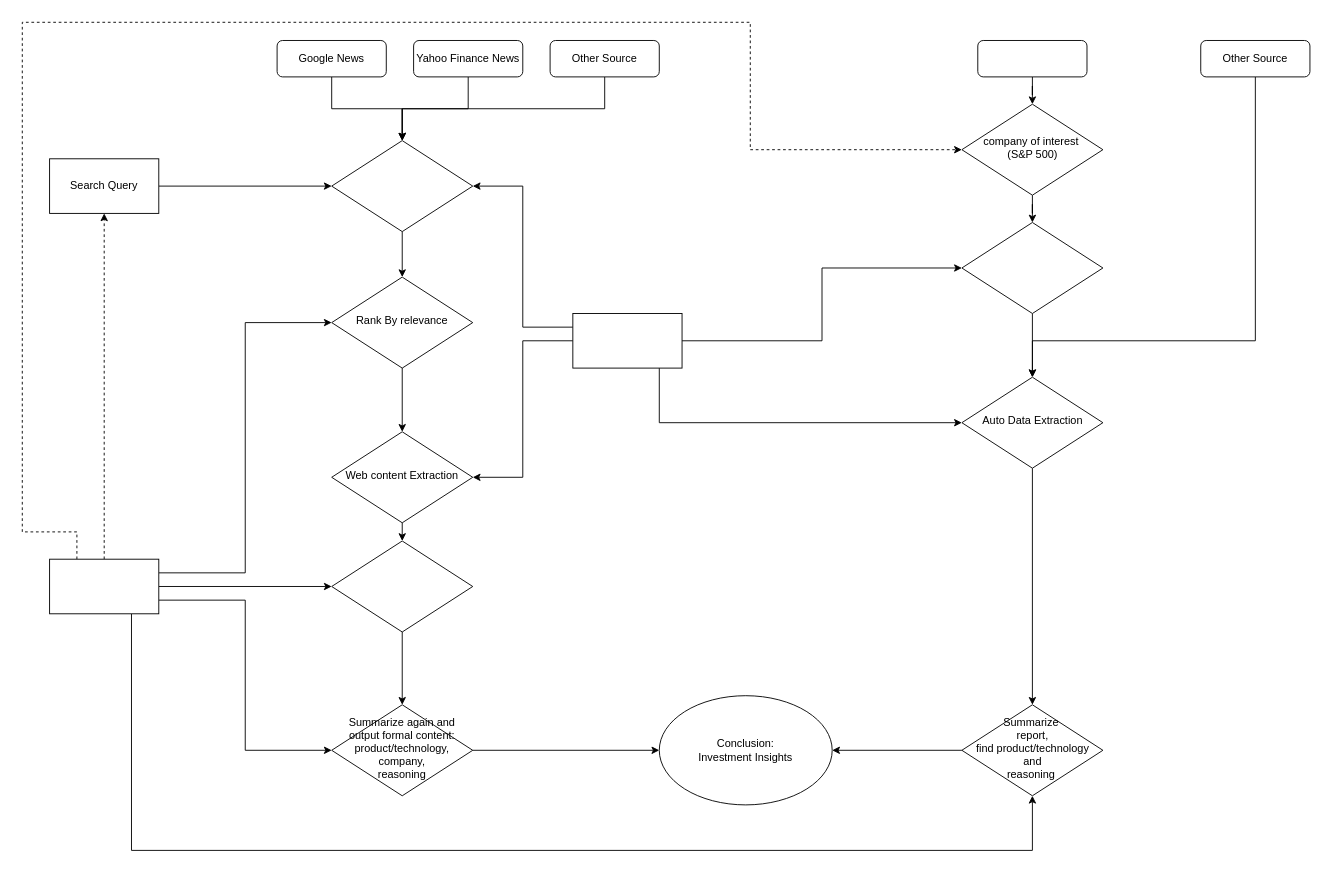
Image size: 1326x874. Some labels were removed from this diagram. The centre of each missing label's shape, as x and y in pixels:
"Auto Find the latest report by company (MD&A)" goes at (x=1032, y=267).
"Get first 15 pages of result (website title and preview)" goes at (x=402, y=186).
"OpenAI API" goes at (x=104, y=586).
"SEC financial report (10-Q or 10-K)" goes at (x=1032, y=58).
"Selenium" goes at (x=627, y=340).
"Summarize news article" goes at (x=402, y=586).
